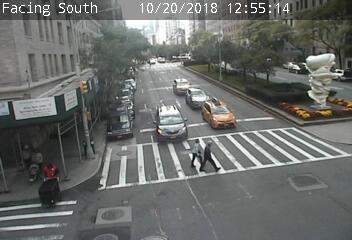car: (154, 104, 185, 137), (205, 103, 231, 124), (183, 91, 208, 105), (174, 80, 187, 91)
